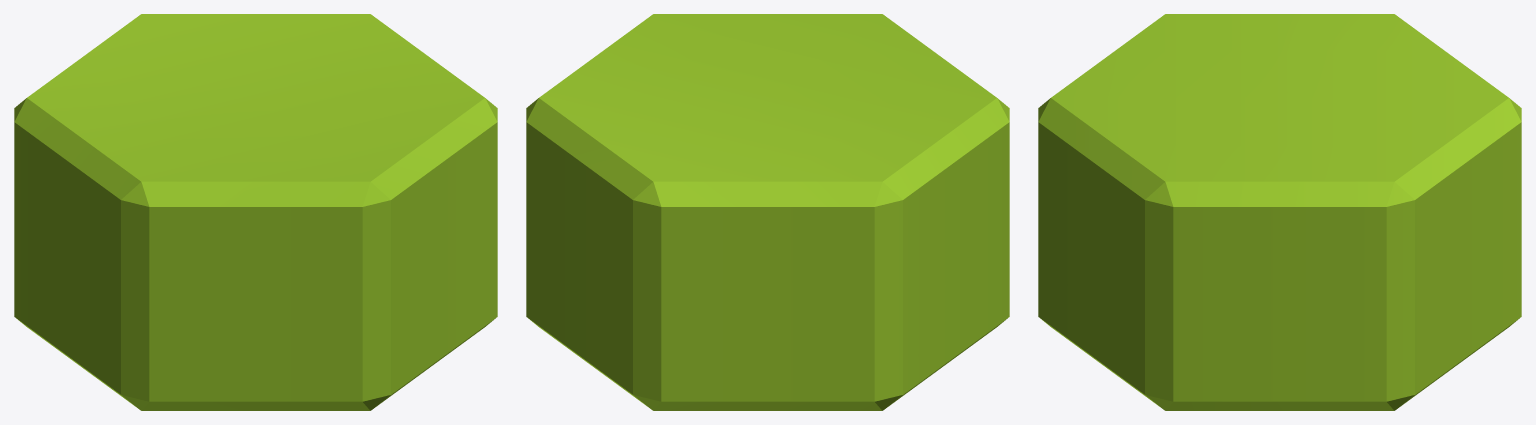
The model's file is basic.obj.
The picture shows the model from 3 angles, left to right: view 1: azimuth 30°, elevation 25°; view 2: azimuth 150°, elevation 25°; view 3: azimuth 270°, elevation 25°; orthographic projection.
Parts seen in each view (by area): view 1: Circle; view 2: Circle; view 3: Circle.
Part boxes in pixels (x1,y1,x2,y2): Circle: (14, 14, 497, 410); Circle: (526, 14, 1009, 410); Circle: (1038, 14, 1521, 410).
Bounding box in the file's own units: 1.73 × 1.01 × 1.92.
